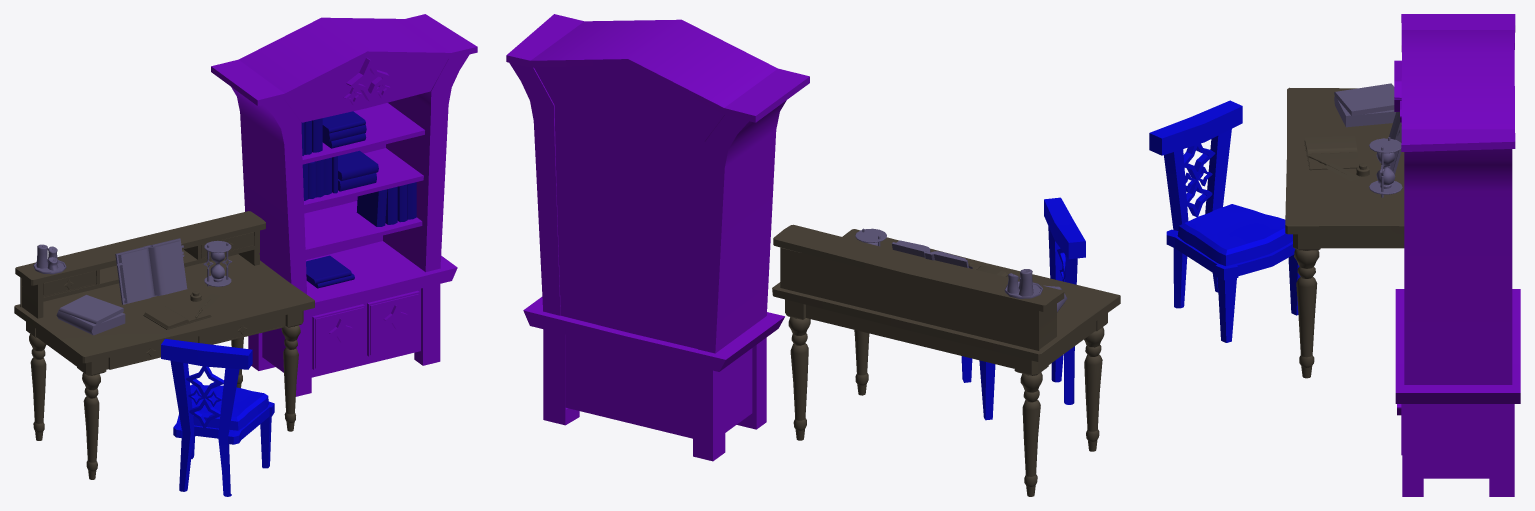
The model's file is 3Props.fbx.
3 views of the same model, side by side, from view 1: azimuth 30°, elevation 25°; view 2: azimuth 150°, elevation 25°; view 3: azimuth 270°, elevation 25° (orthographic). The views are drawn at different scales.
Visible parts, largest first — view 1: Bookshelf1, TableProps1, Chairgroup_LP1_top; view 2: Bookshelf1, TableProps1, Chairgroup_LP1_top; view 3: Bookshelf1, TableProps1, Chairgroup_LP1_top.
Boxes of the visible parts, <box> form: Bookshelf1: <box>211,14,477,396</box>; TableProps1: <box>14,211,314,479</box>; Chairgroup_LP1_top: <box>161,338,274,496</box>; Bookshelf1: <box>506,14,809,461</box>; TableProps1: <box>772,224,1120,496</box>; Chairgroup_LP1_top: <box>961,197,1085,420</box>; Bookshelf1: <box>1394,14,1520,496</box>; TableProps1: <box>1285,83,1404,378</box>; Chairgroup_LP1_top: <box>1149,100,1300,342</box>.
Size of the model in its own units: 2.96 by 2.1 by 1.76.
